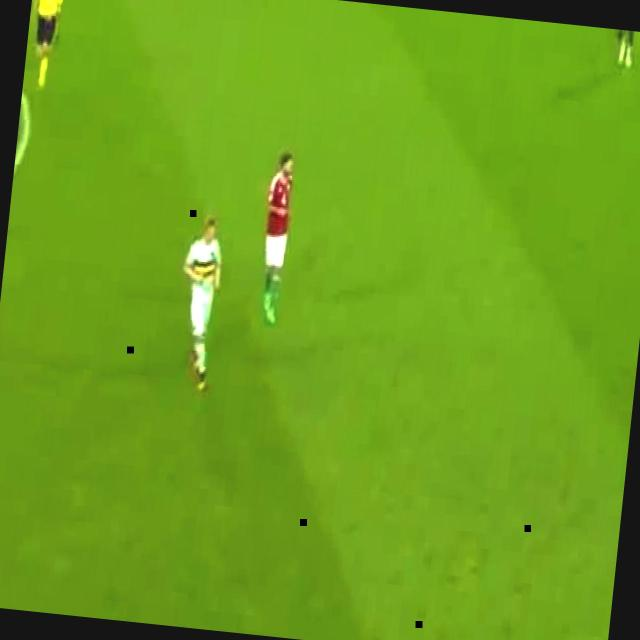player-white: (171, 216, 226, 391), (255, 153, 299, 325), (24, 0, 66, 88), (607, 29, 639, 67)
